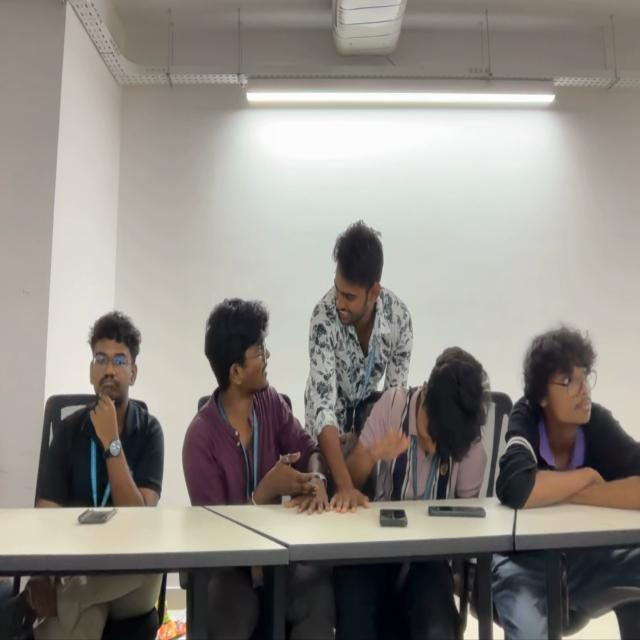Isolated: (497, 325, 640, 508), (33, 309, 164, 501)
socializing: (183, 219, 488, 506)
